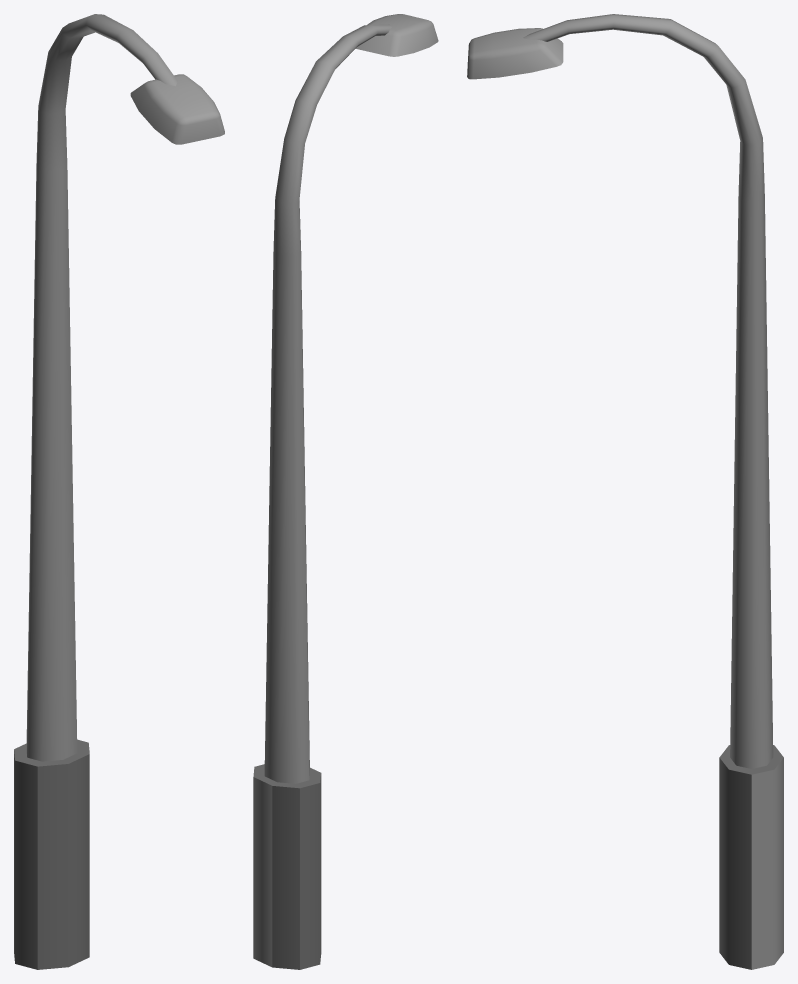
File: Flashlight.fbx
3 renders of one model, left to right at view 1: azimuth 30°, elevation 25°; view 2: azimuth 150°, elevation 25°; view 3: azimuth 270°, elevation 25°, orthographic. The views are drawn at different scales.
Visible parts, largest first — view 1: Lamp_2_011; view 2: Lamp_2_011; view 3: Lamp_2_011.
Boxes of the visible parts, x1,y1,x2,y2 form: Lamp_2_011: (14,14,224,969); Lamp_2_011: (253,14,438,969); Lamp_2_011: (467,14,783,969).
Bounding box in the file's own units: 849 × 10761 × 3294.
